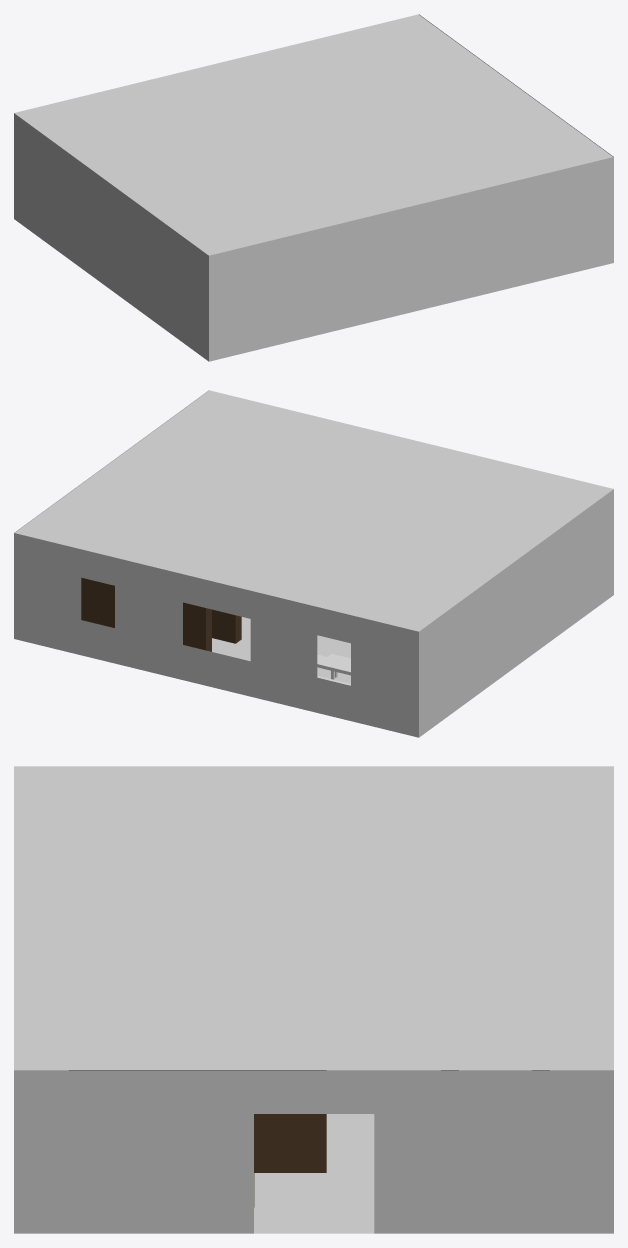
File: mdl_Library.fbx
The picture shows the model from 3 angles, top to bottom: view 1: azimuth 30°, elevation 25°; view 2: azimuth 150°, elevation 25°; view 3: azimuth 270°, elevation 25°; orthographic projection. The views are drawn at different scales.
Parts seen in each view (by area): view 1: Plane; view 2: Plane; view 3: Plane.
Part boxes in pixels (bbox=[...]): Plane: bbox=[14, 14, 613, 361]; Plane: bbox=[14, 390, 613, 737]; Plane: bbox=[14, 766, 613, 1233].
Bounding box in the file's own units: 1199 × 303 × 1000.
